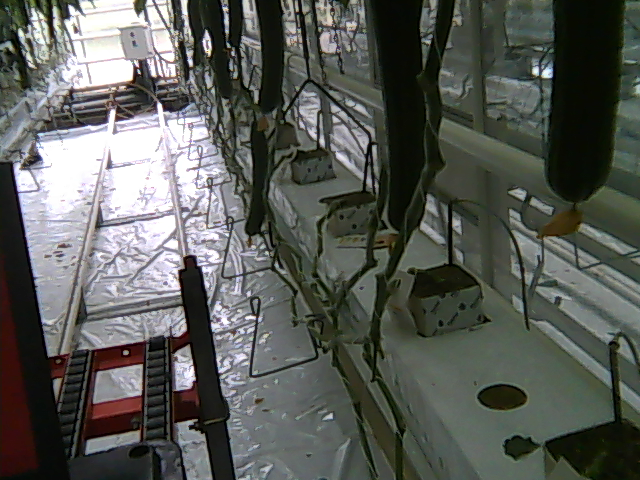concombre: (536, 1, 629, 241), (357, 1, 439, 247)
